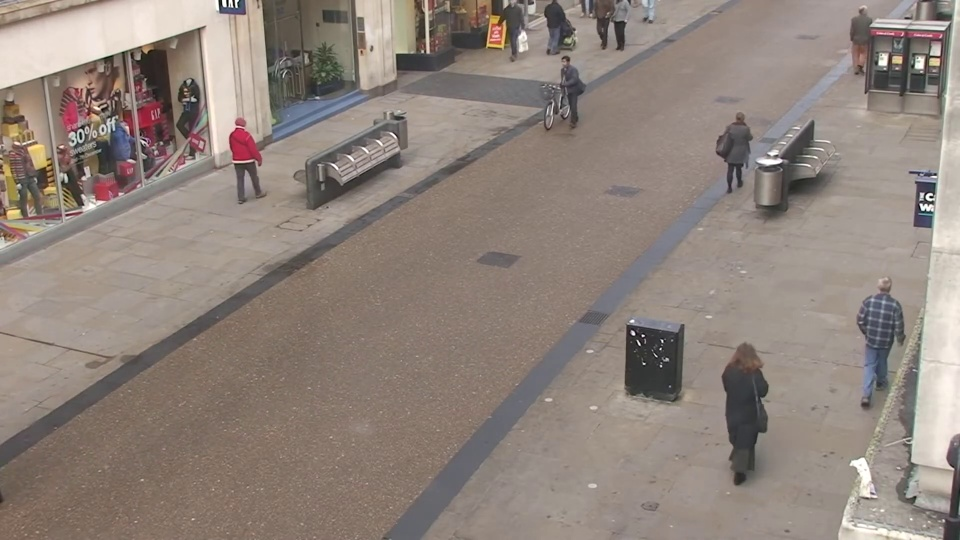pedestrian: (717, 328, 771, 480), (856, 261, 911, 397), (232, 112, 268, 205), (723, 106, 756, 199), (845, 2, 877, 72), (552, 54, 578, 132)
